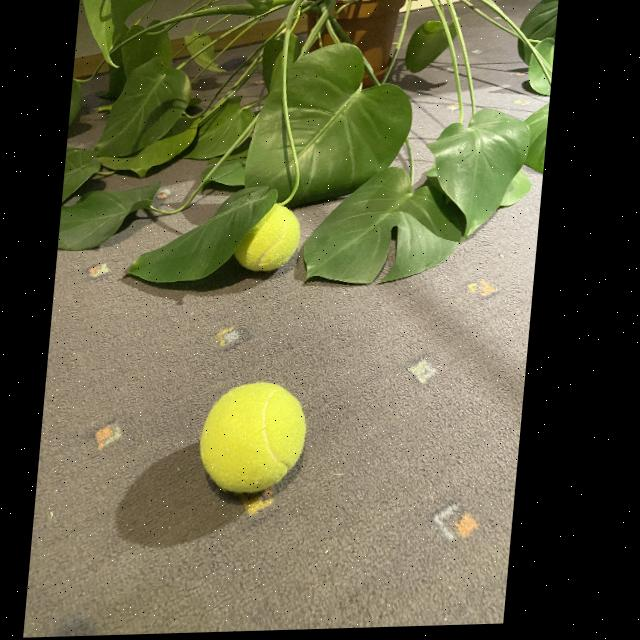Tennisball: (200, 383, 306, 493), (234, 204, 300, 271)
